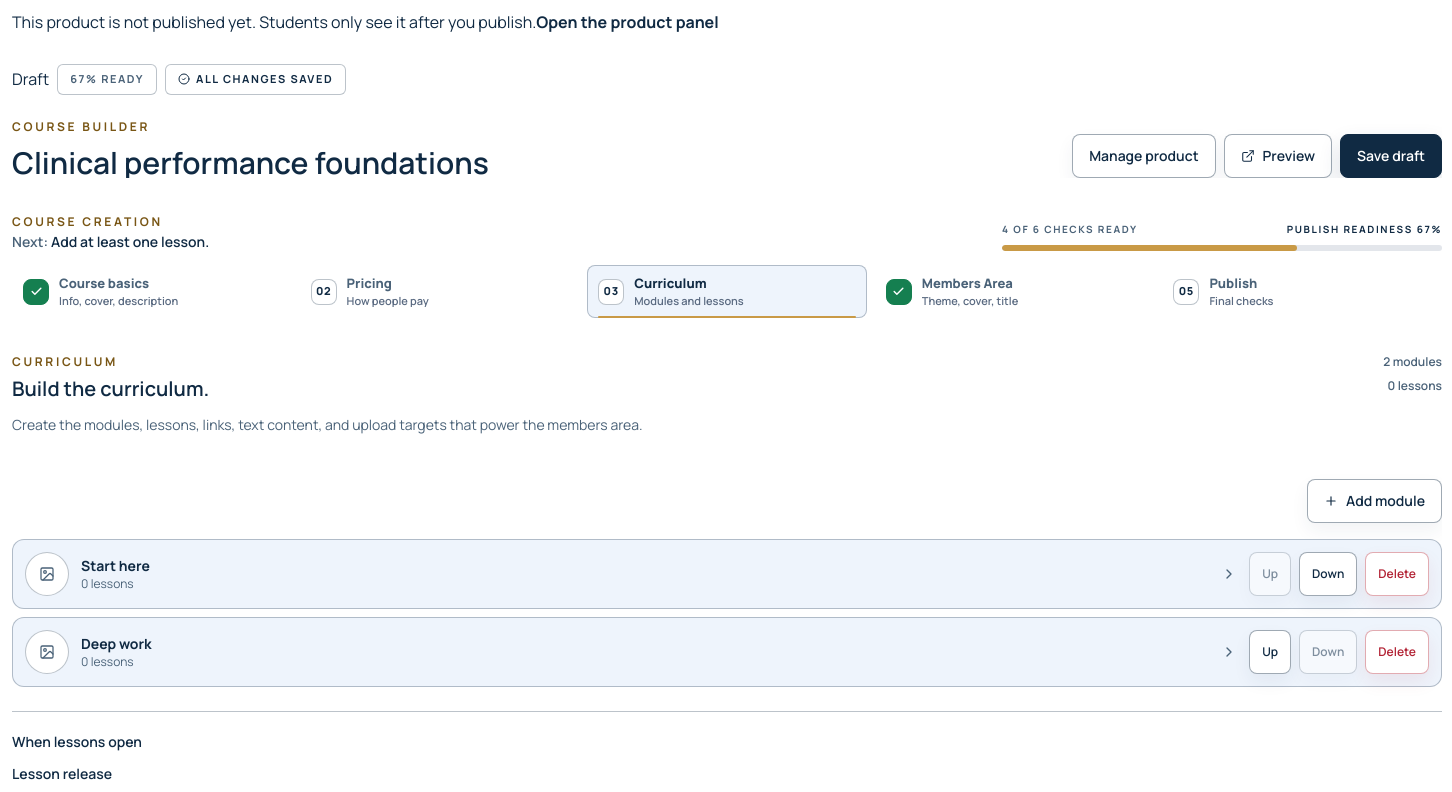
Test case: aba Curriculum: a lista de modulos vem primeiro › abre titulo e descricao juntos ao criar modulo
Expected: the heading "Clinical performance foundations" is shown, [12,142,489,178]
Click the button "Add module" at (1374, 501), box [1307,479,1442,523]
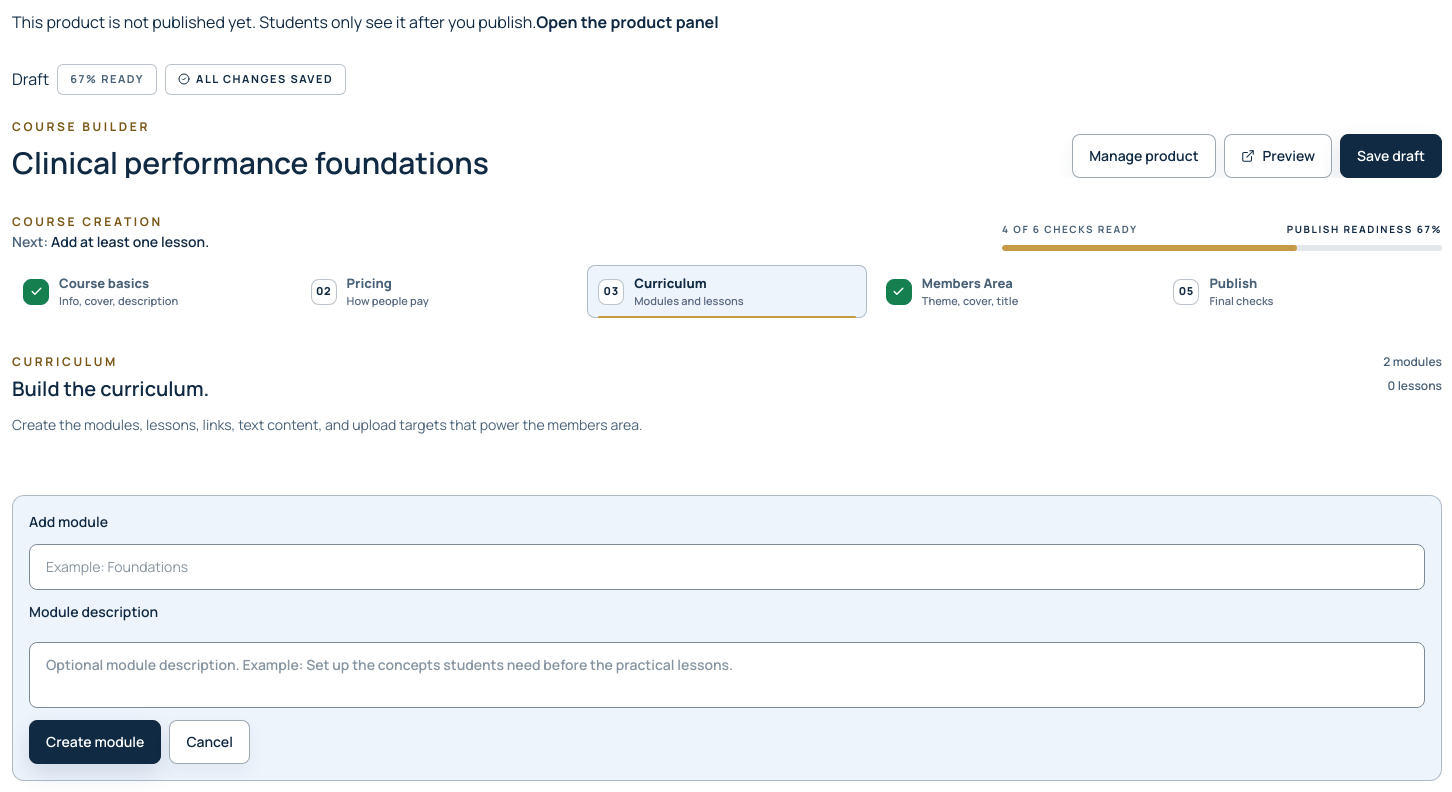
Now the form is shown, box [12,495,1442,781]
Now the field named "Module title" is empty, box [29,544,1425,590]
Now the text box labelled "Module description" is shown, box [29,642,1425,708]
# A validacao que ja existia continua de pe.
Click the button "Create module" at (95, 742), box [29,720,161,764]
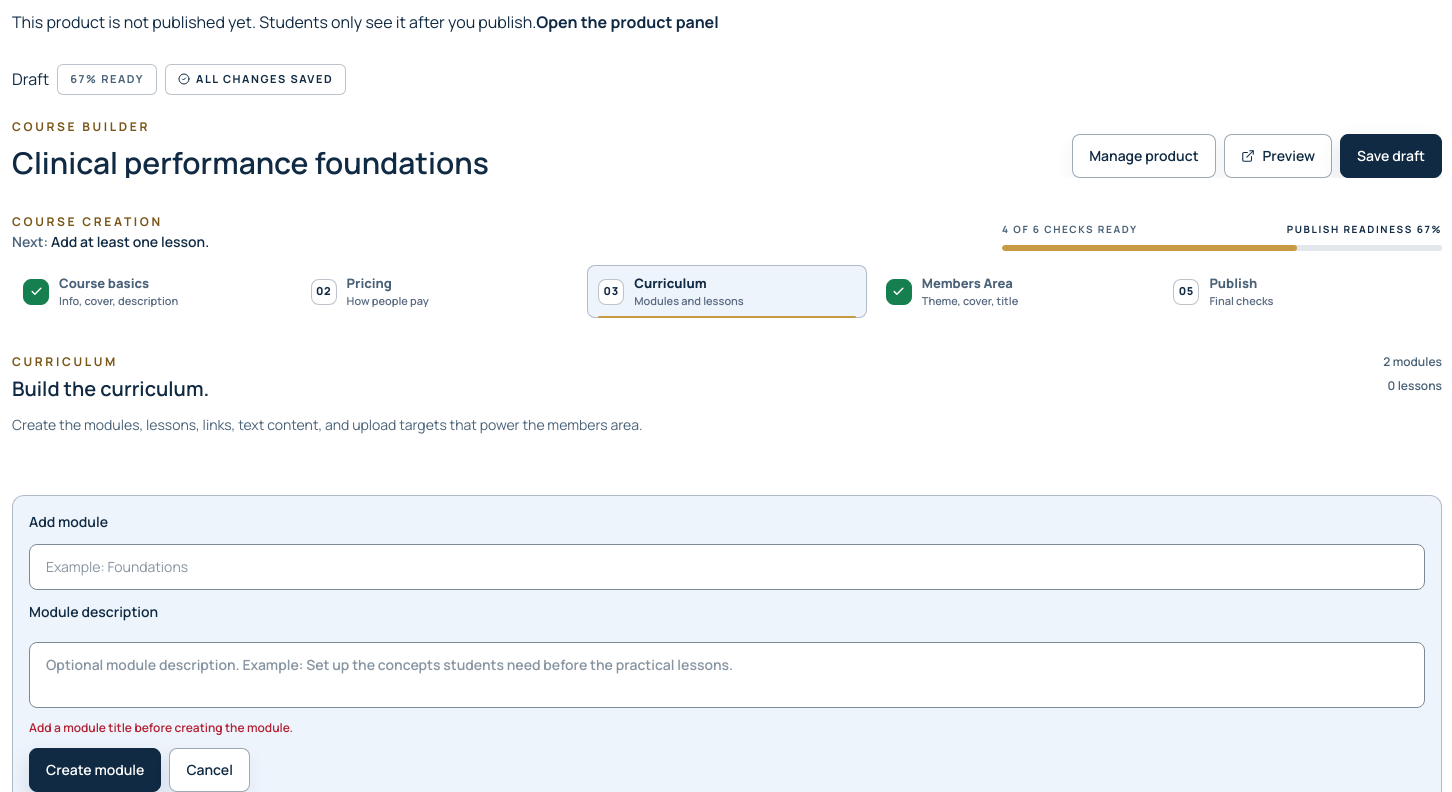
Now the message "Add a module title before creating the module." is shown, box [29,719,293,736]
Type "Recovery" into the field named "Module title" at (727, 567), box [29,544,1425,590]
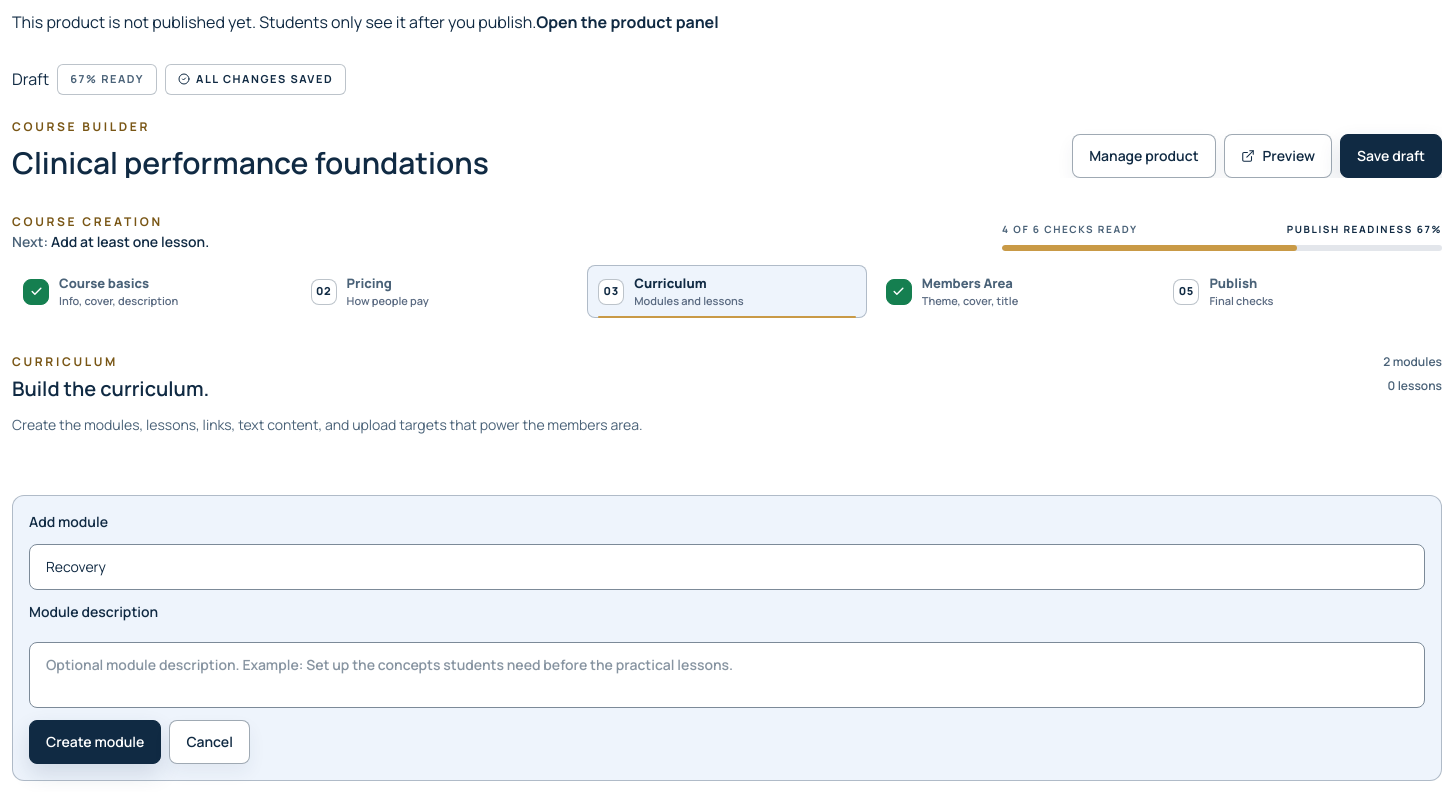
Click the button "Create module" at (95, 742), box [29,720,161,764]
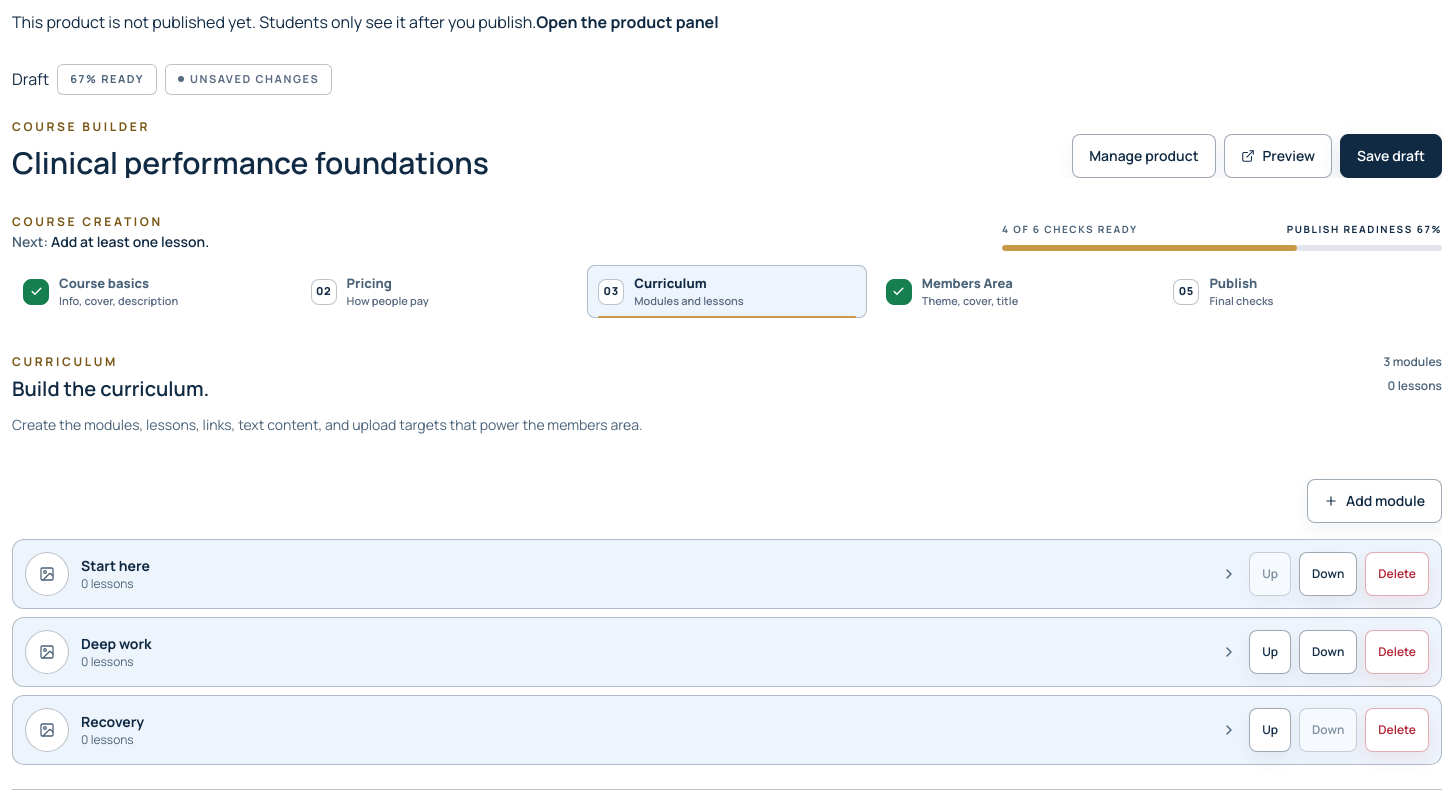
Now the link "Recovery 0 lessons" is shown, box [25,708,1237,752]
Now no forms are shown
